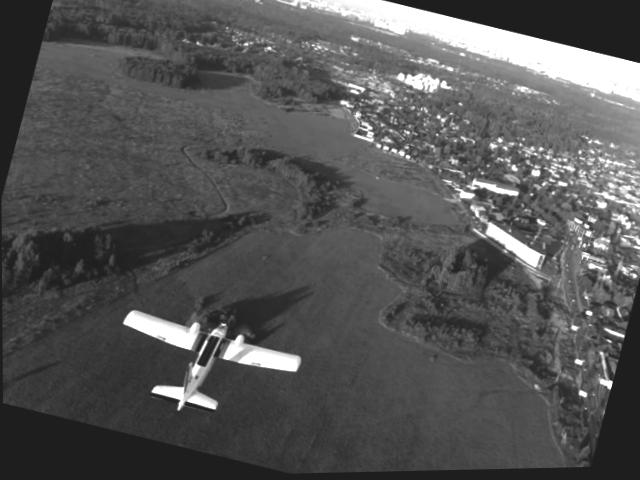hedef: (81, 284, 322, 442)
